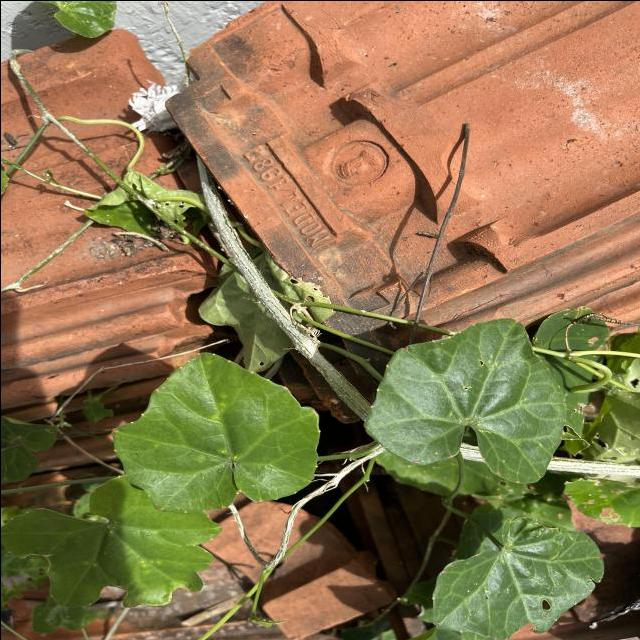Coccinia grandis: (108, 350, 322, 514), (362, 315, 567, 484)
